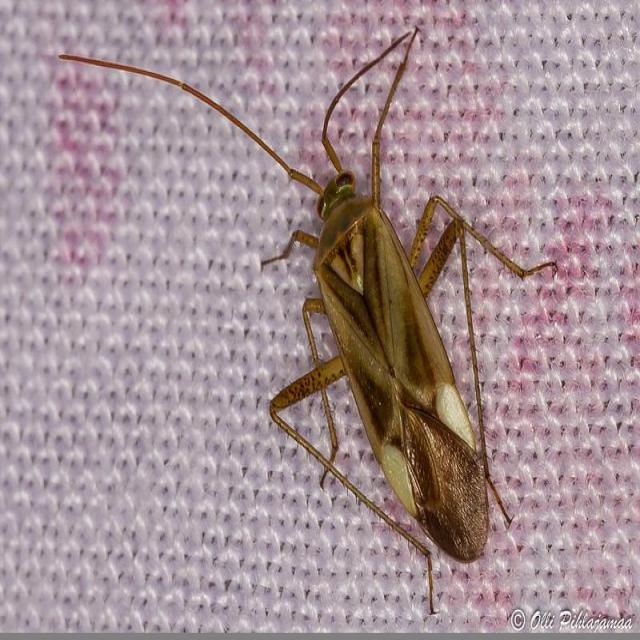Miridae-Adult-: (56, 18, 566, 616)
